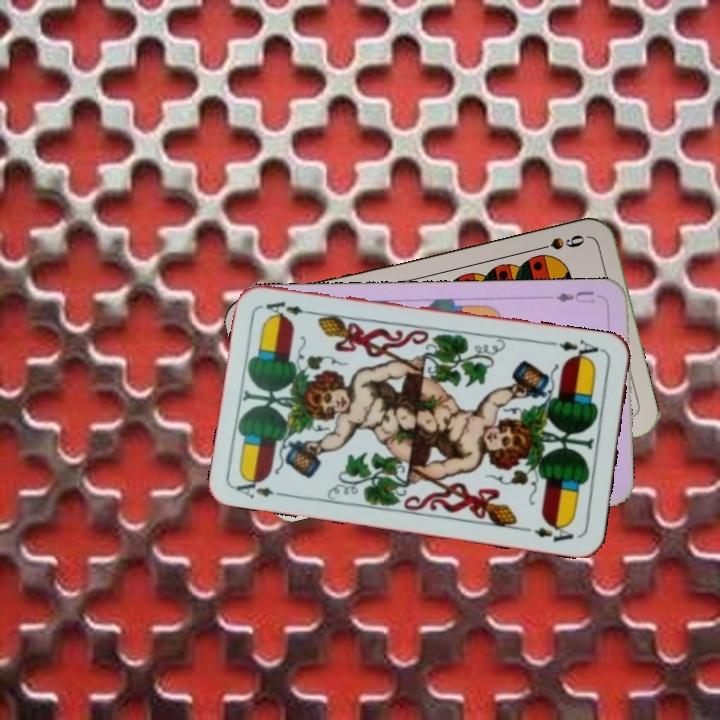EA: (547, 335, 606, 364), (232, 472, 291, 501)
EU: (552, 286, 597, 306)
S9: (531, 230, 587, 254)
